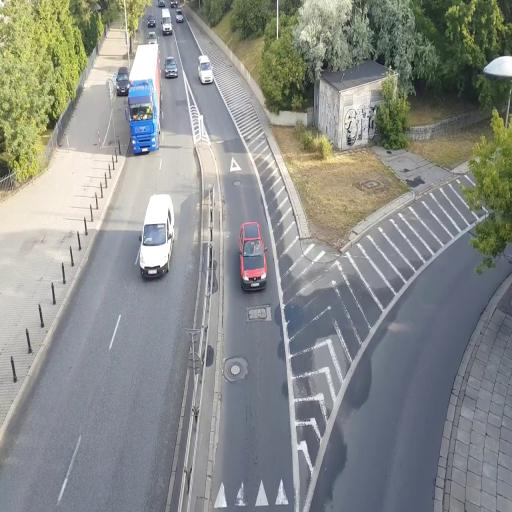vehicle: (137, 193, 176, 280), (126, 80, 159, 155), (238, 220, 268, 292), (114, 66, 130, 95), (198, 56, 213, 84), (164, 58, 178, 78), (162, 12, 172, 36)
